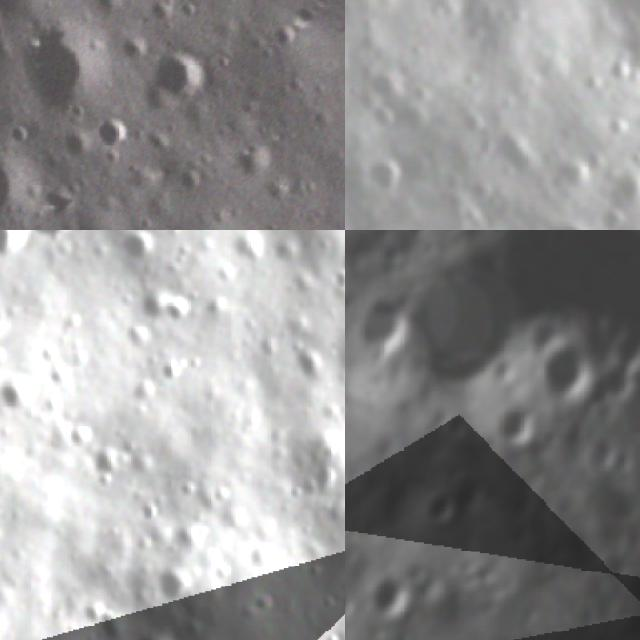crater: (390, 248, 558, 424), (0, 0, 128, 136), (132, 26, 224, 117), (346, 282, 417, 371), (531, 334, 607, 414), (478, 114, 552, 190), (0, 132, 51, 230), (347, 134, 415, 203), (597, 542, 640, 640), (353, 54, 418, 118), (222, 127, 285, 190), (364, 567, 425, 628), (132, 282, 203, 334), (492, 391, 542, 455), (442, 85, 498, 142), (84, 104, 138, 159), (410, 484, 461, 534), (0, 367, 47, 420), (534, 197, 608, 230), (150, 572, 201, 616), (580, 429, 624, 480), (595, 102, 640, 150), (114, 230, 163, 270), (312, 234, 345, 293), (604, 434, 640, 487), (137, 0, 188, 37), (77, 0, 135, 30), (27, 230, 87, 255), (442, 409, 476, 448), (0, 230, 31, 265), (626, 41, 640, 106), (331, 160, 345, 221), (618, 141, 640, 176), (345, 577, 356, 625), (345, 384, 355, 423)
